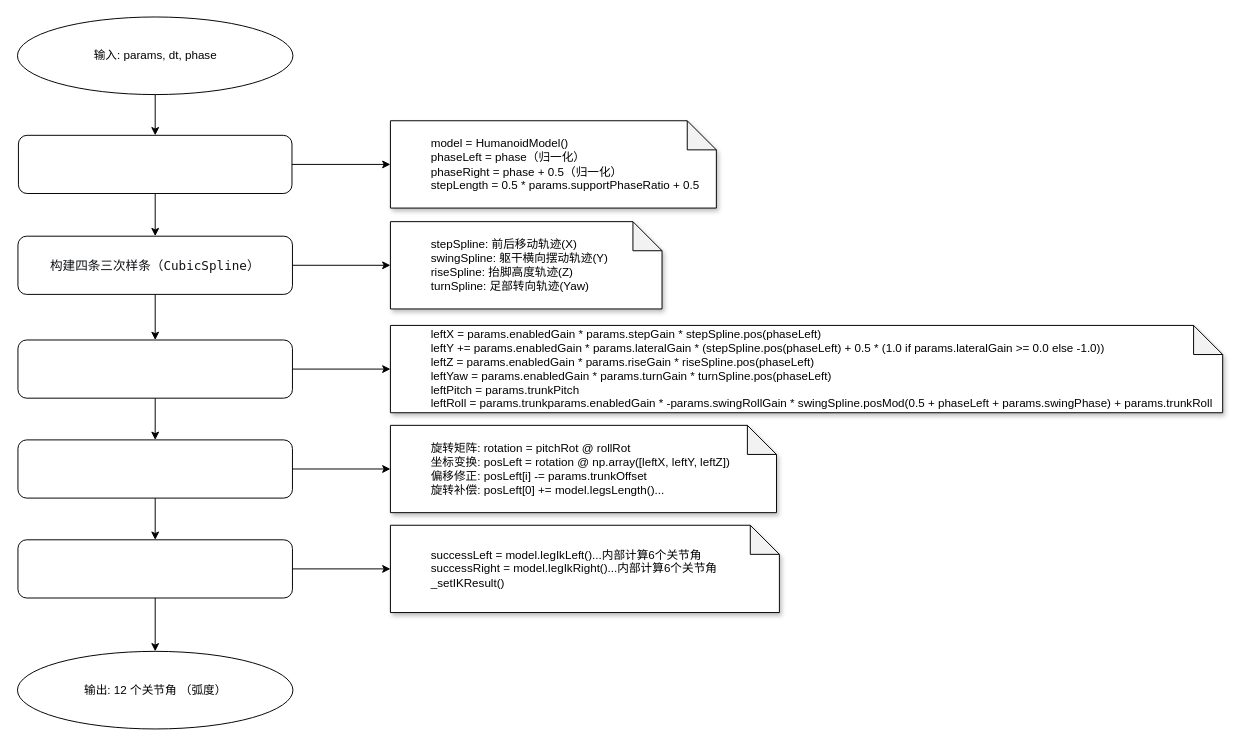
Image size: 1245x746. Some labels were removed from this diagram. The centre of each missing label's shape, as x and y in pixels:
初始化模型与相位计算: (154,164)
空间变换与补偿: (154,468)
计算双腿运动分量（利用样条求值）: (154,368)
逆运动学求解与结果映射: (154,568)
